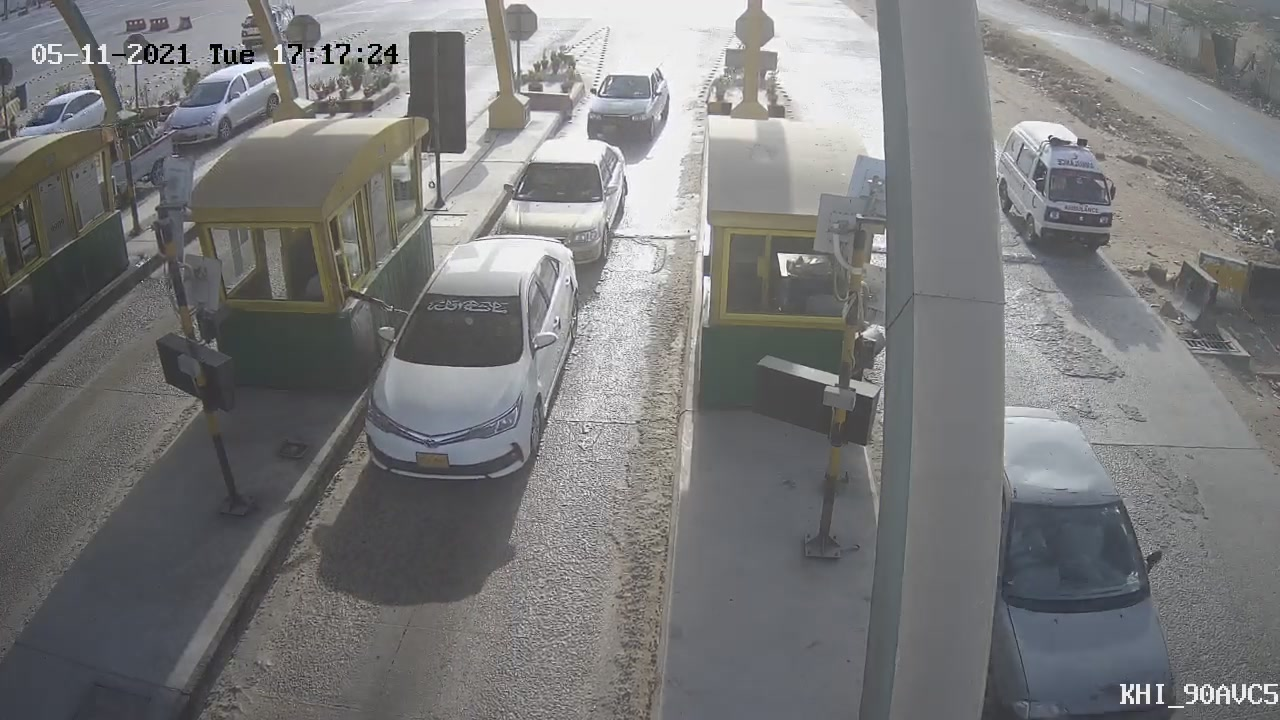F1: (348, 221, 594, 504), (486, 130, 639, 281), (576, 52, 681, 156)
